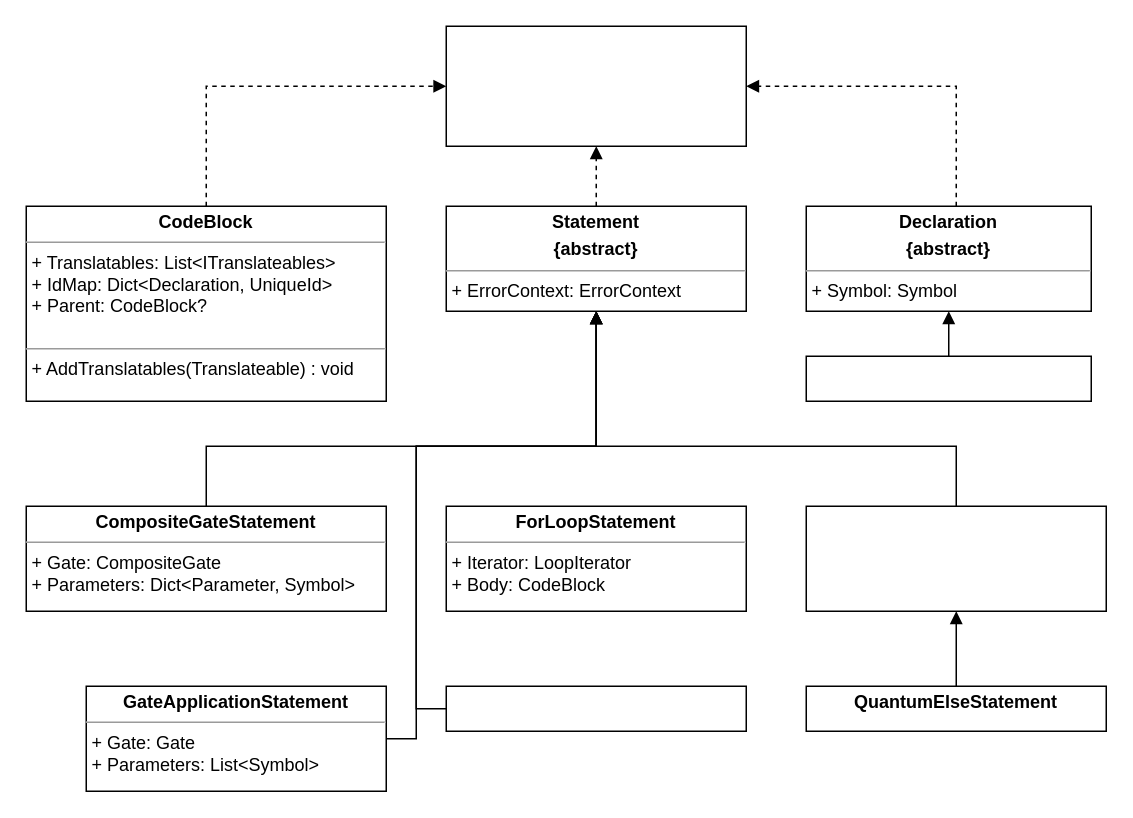
The diagram is 1133 pixels wide and 818 high, and some of its shapes have lost their labels. Here are the shapes that lost their labels. From the top down, the centre of each, then its label:
At (x=595, y=85): "<<Interface>> ITranslateable + ToQASM(context): QASMProgram".
At (x=948, y=378): "RegisterDeclaration".
At (x=955, y=558): "QuantumIfStatement + Guard: Symbol + Block: CodeBlock".
At (x=595, y=708): "SkipStatement".
